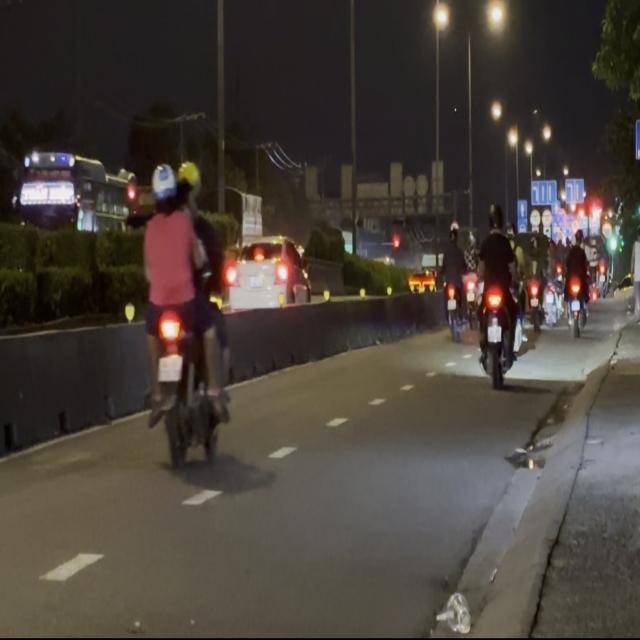helmet: (150, 162, 178, 212), (175, 159, 200, 206)
licenseplate: (138, 158, 233, 468)
nohelmet: (156, 354, 182, 380)
